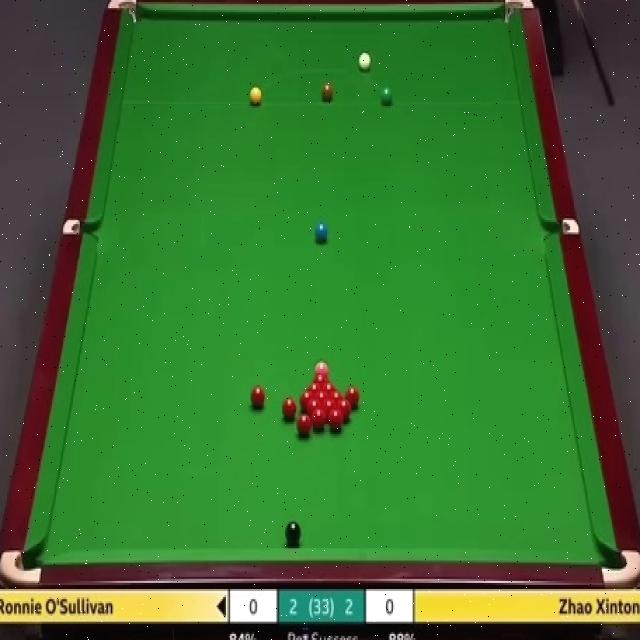black-ball: (284, 518, 302, 543)
blue-ball: (314, 223, 329, 240)
brown-ball: (322, 83, 333, 101)
green-ball: (379, 84, 394, 107)
pink-ball: (314, 364, 330, 379)
red-ball: (296, 413, 312, 439), (281, 396, 298, 418), (250, 385, 266, 408), (336, 399, 352, 421), (300, 390, 315, 412), (310, 408, 326, 428), (330, 408, 344, 430), (324, 381, 338, 400), (346, 388, 359, 408), (308, 382, 323, 396)
white-ball: (358, 51, 371, 69)
yellow-ball: (249, 86, 262, 106)
